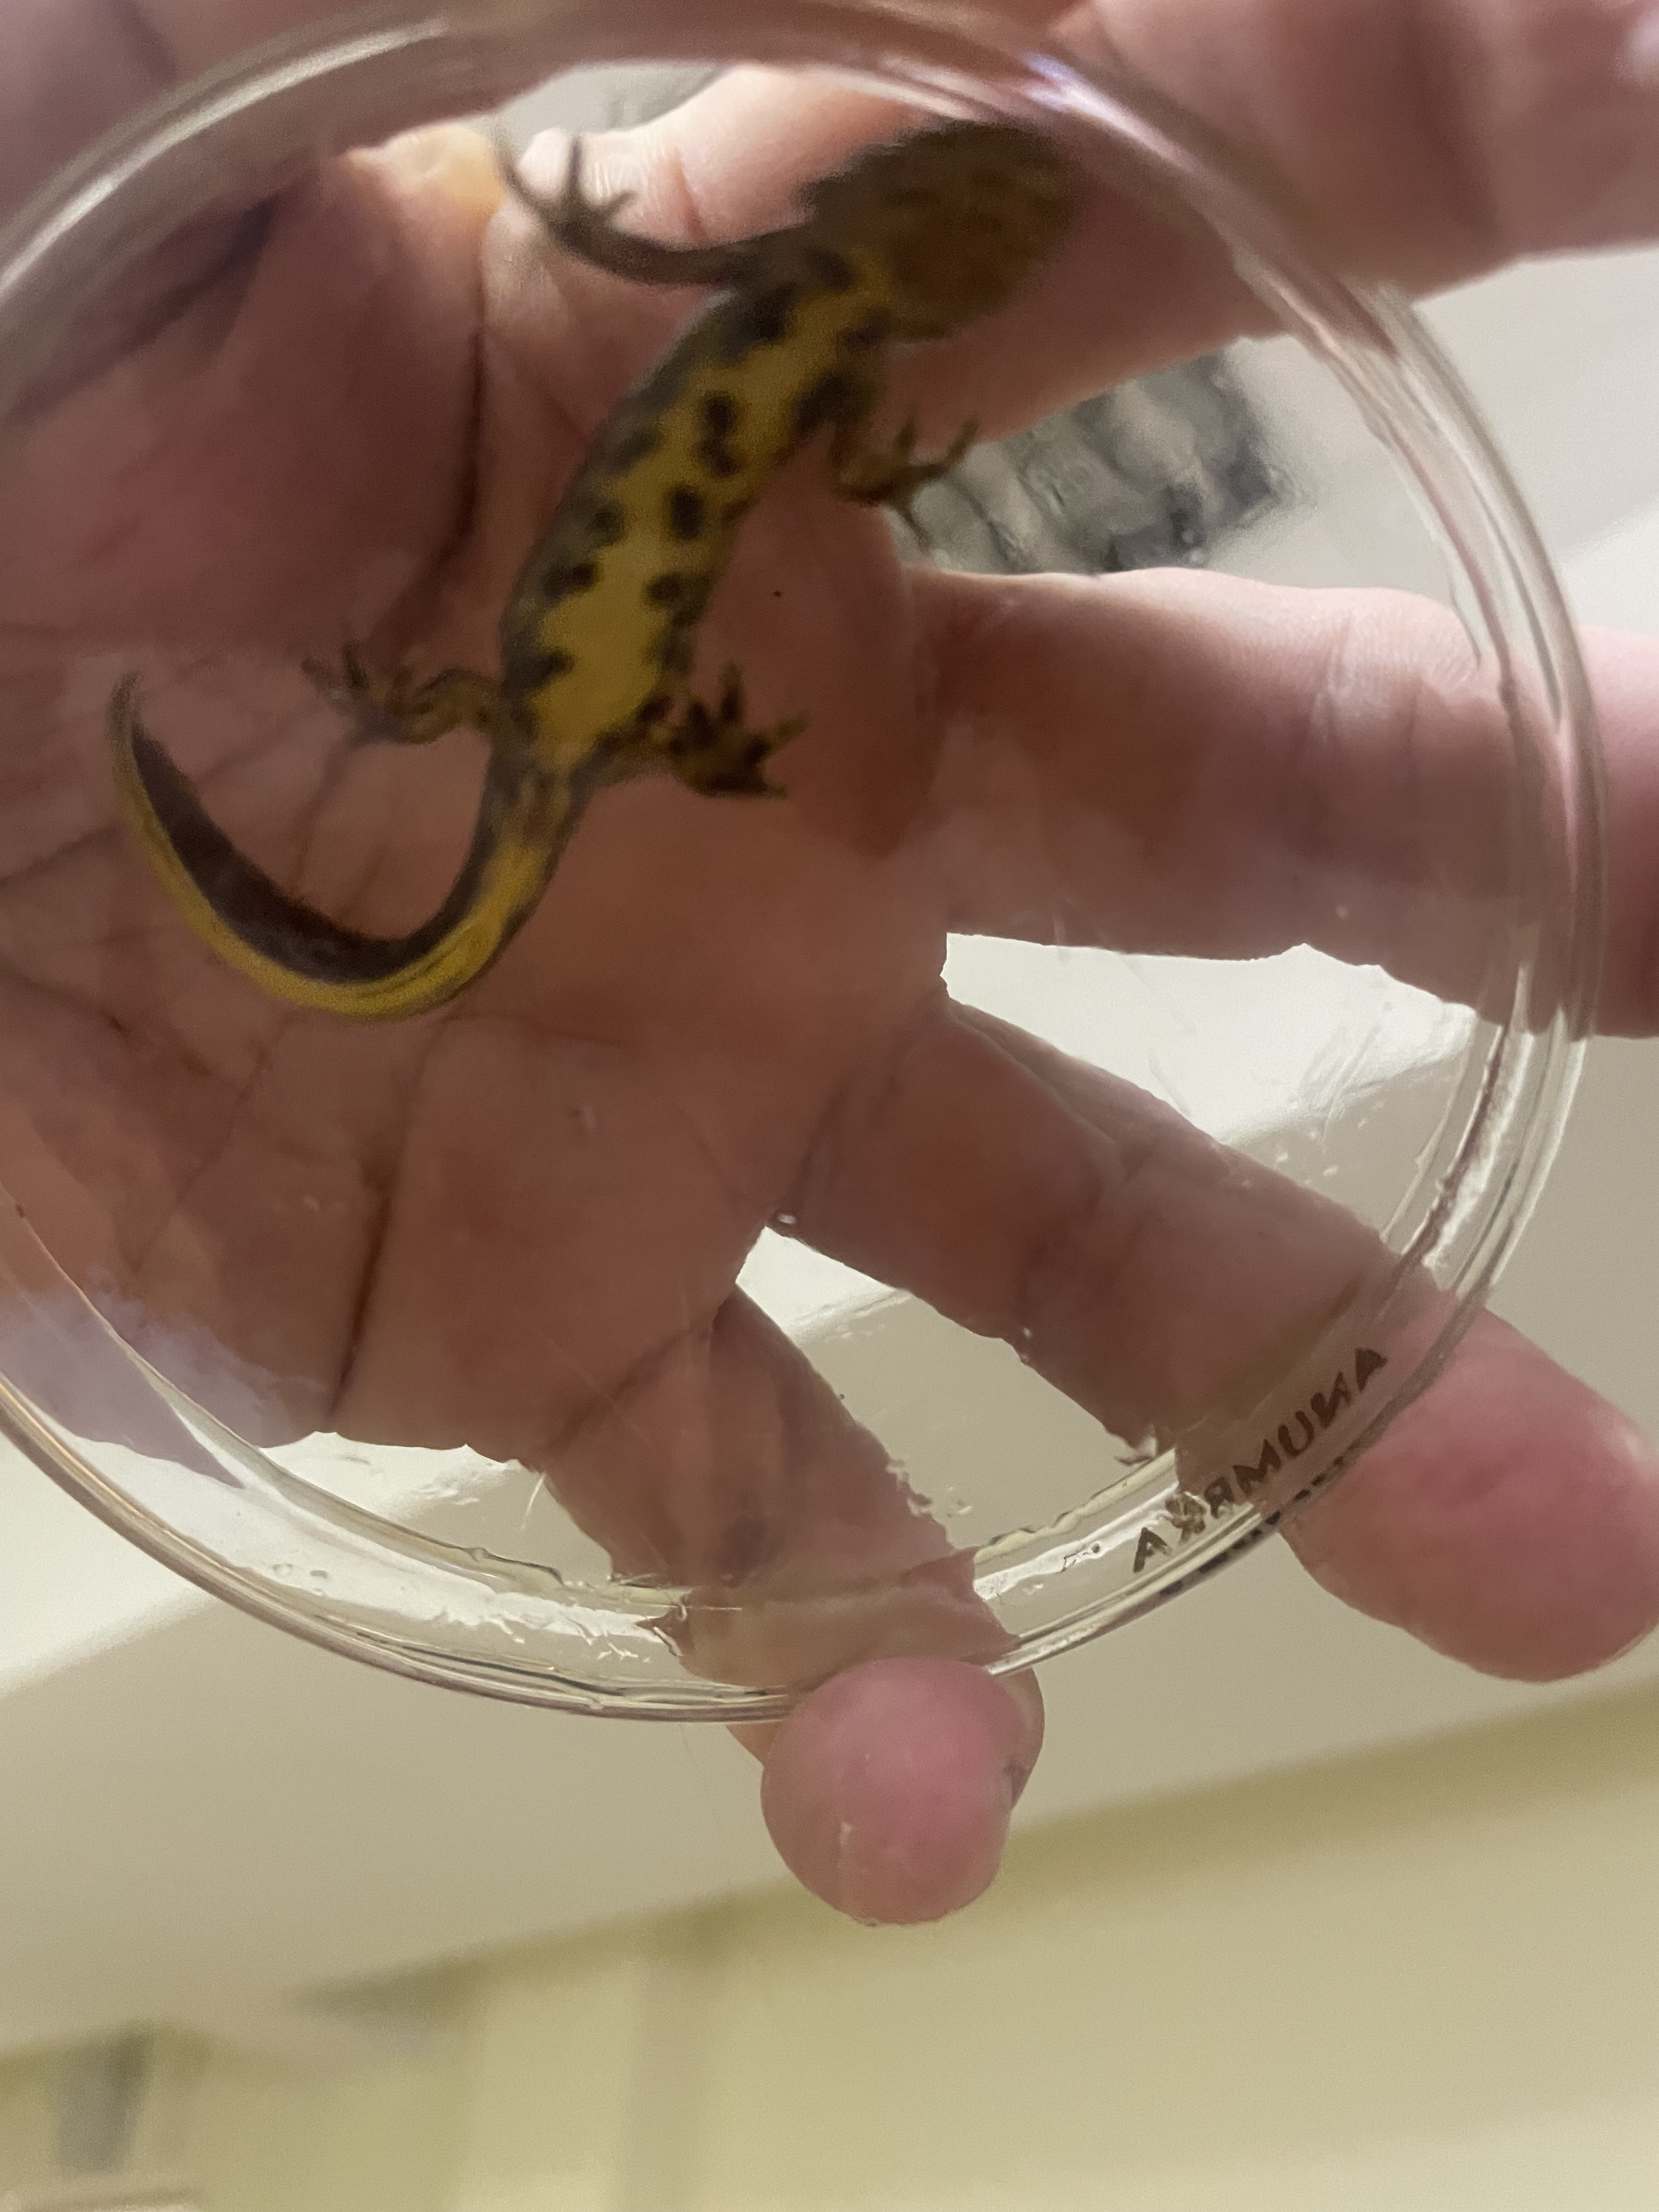Karelin_newt: (498, 291, 835, 723)
